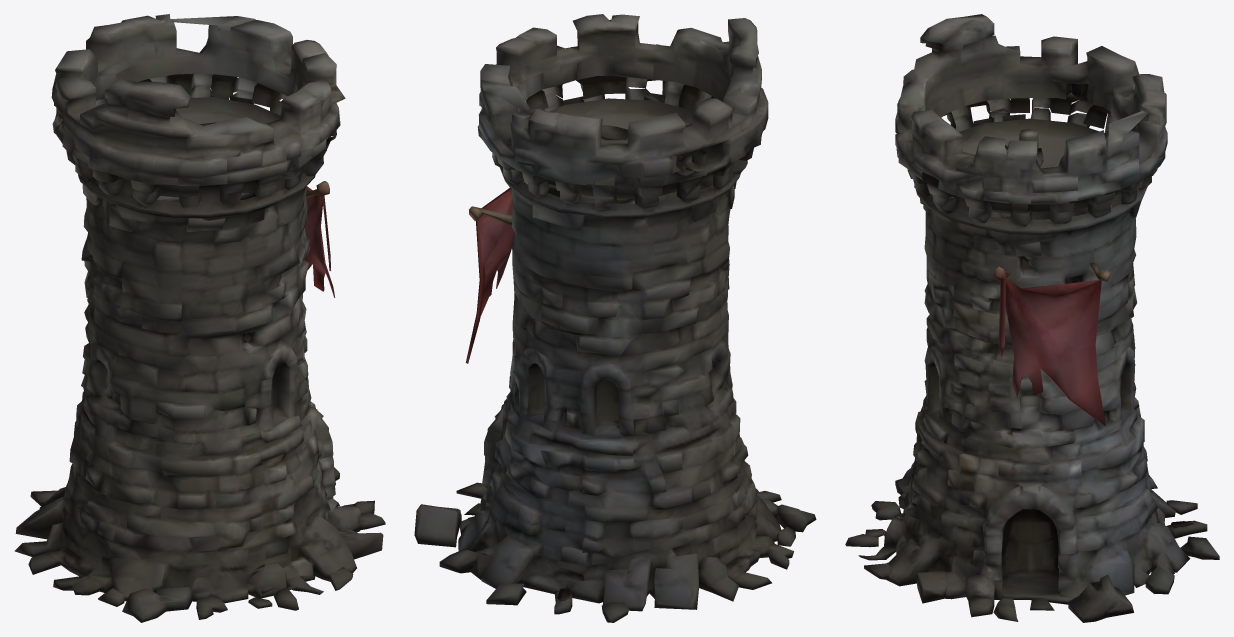
Rendered from env_tower.glb.
3 renders of one model, left to right at view 1: azimuth 30°, elevation 25°; view 2: azimuth 150°, elevation 25°; view 3: azimuth 270°, elevation 25°, orthographic. The views are drawn at different scales.
Parts seen in each view (by area): view 1: tripo_node_3bb45e04-a897-48b8-bbc0-209907a85d2e; view 2: tripo_node_3bb45e04-a897-48b8-bbc0-209907a85d2e; view 3: tripo_node_3bb45e04-a897-48b8-bbc0-209907a85d2e.
Part boxes in pixels (left/top/right/bottom): tripo_node_3bb45e04-a897-48b8-bbc0-209907a85d2e: left=14, top=14, right=385, bottom=622; tripo_node_3bb45e04-a897-48b8-bbc0-209907a85d2e: left=414, top=14, right=816, bottom=622; tripo_node_3bb45e04-a897-48b8-bbc0-209907a85d2e: left=845, top=14, right=1219, bottom=622.
Size of the model in its own units: 0.6829 by 1 by 0.7026.
Materials: 1 (1 with a texture image).
